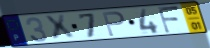3: (25, 16, 48, 43)
4: (137, 7, 161, 35)
7: (77, 12, 98, 39)
F: (156, 5, 182, 35)
P: (101, 10, 127, 37)
X: (42, 13, 77, 42)
